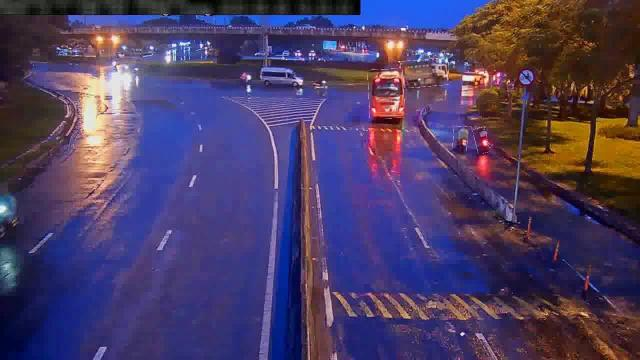Bike: (452, 127, 468, 153), (474, 127, 490, 153)
Bus: (368, 69, 404, 119)
Truck: (401, 58, 449, 88)
